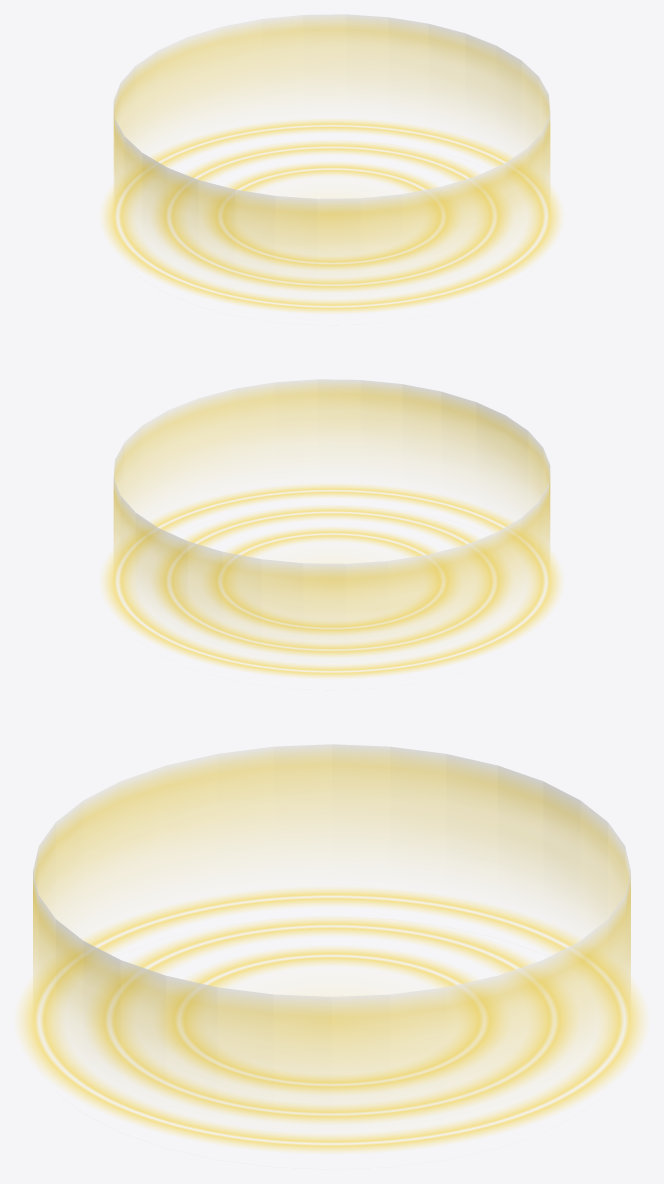
Rendered from fx_pulse_asc.glb.
The picture shows the model from 3 angles, top to bottom: view 1: azimuth 30°, elevation 25°; view 2: azimuth 150°, elevation 25°; view 3: azimuth 270°, elevation 25°; orthographic projection. The views are drawn at different scales.
Parts seen in each view (by area): view 1: fx_wall, fx_shock; view 2: fx_wall, fx_shock; view 3: fx_wall, fx_shock.
Part boxes in pixels (x1,y1,x2,y2): fx_wall: (113, 14, 550, 274); fx_shock: (103, 119, 560, 312); fx_wall: (113, 379, 550, 642); fx_shock: (103, 484, 560, 677); fx_wall: (33, 744, 630, 1101); fx_shock: (19, 888, 644, 1152).
Size of the model in its own units: 1 by 0.3 by 1.
Materials: 2 (2 with a texture image).
